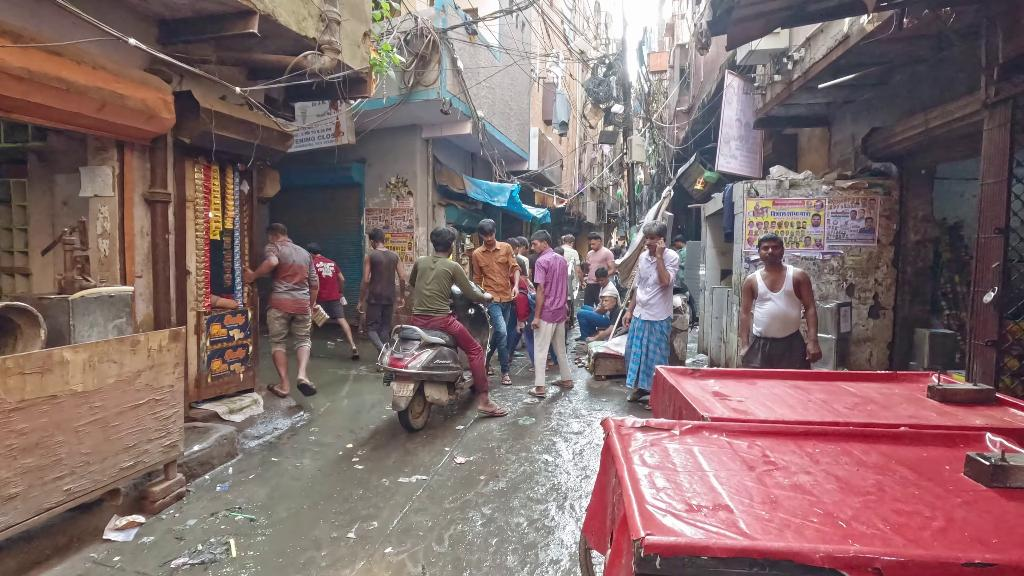garbage: (100, 511, 147, 545), (453, 453, 468, 465)
